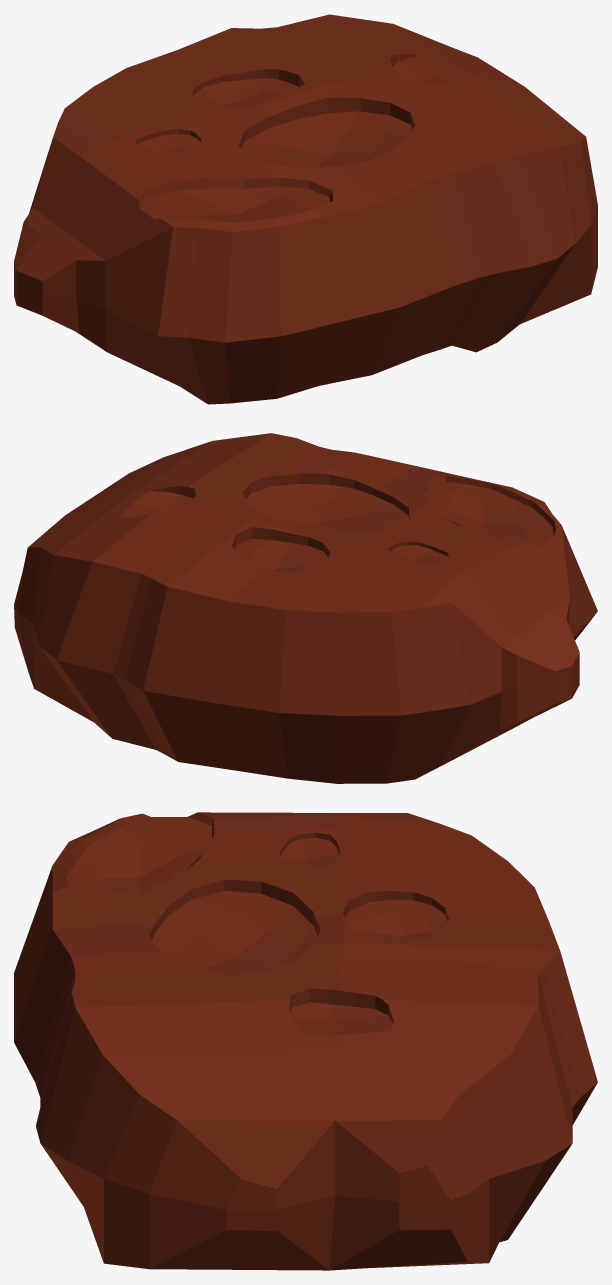
The model's file is Asteroid_2.obj.
The picture shows the model from 3 angles, top to bottom: view 1: azimuth 30°, elevation 25°; view 2: azimuth 150°, elevation 25°; view 3: azimuth 270°, elevation 25°; orthographic projection. The views are drawn at different scales.
Parts seen in each view (by area): view 1: Cube; view 2: Cube; view 3: Cube.
Boxes of the visible parts, bbox=[...] form: Cube: bbox=[14, 14, 597, 404]; Cube: bbox=[14, 433, 597, 783]; Cube: bbox=[14, 812, 597, 1270].
Bounding box in the file's own units: 1.92 × 0.7265 × 1.45.
